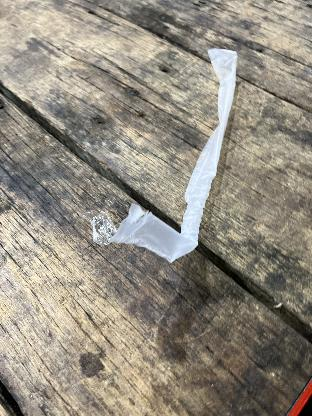Others: (120, 48, 242, 258), (86, 215, 119, 249)
